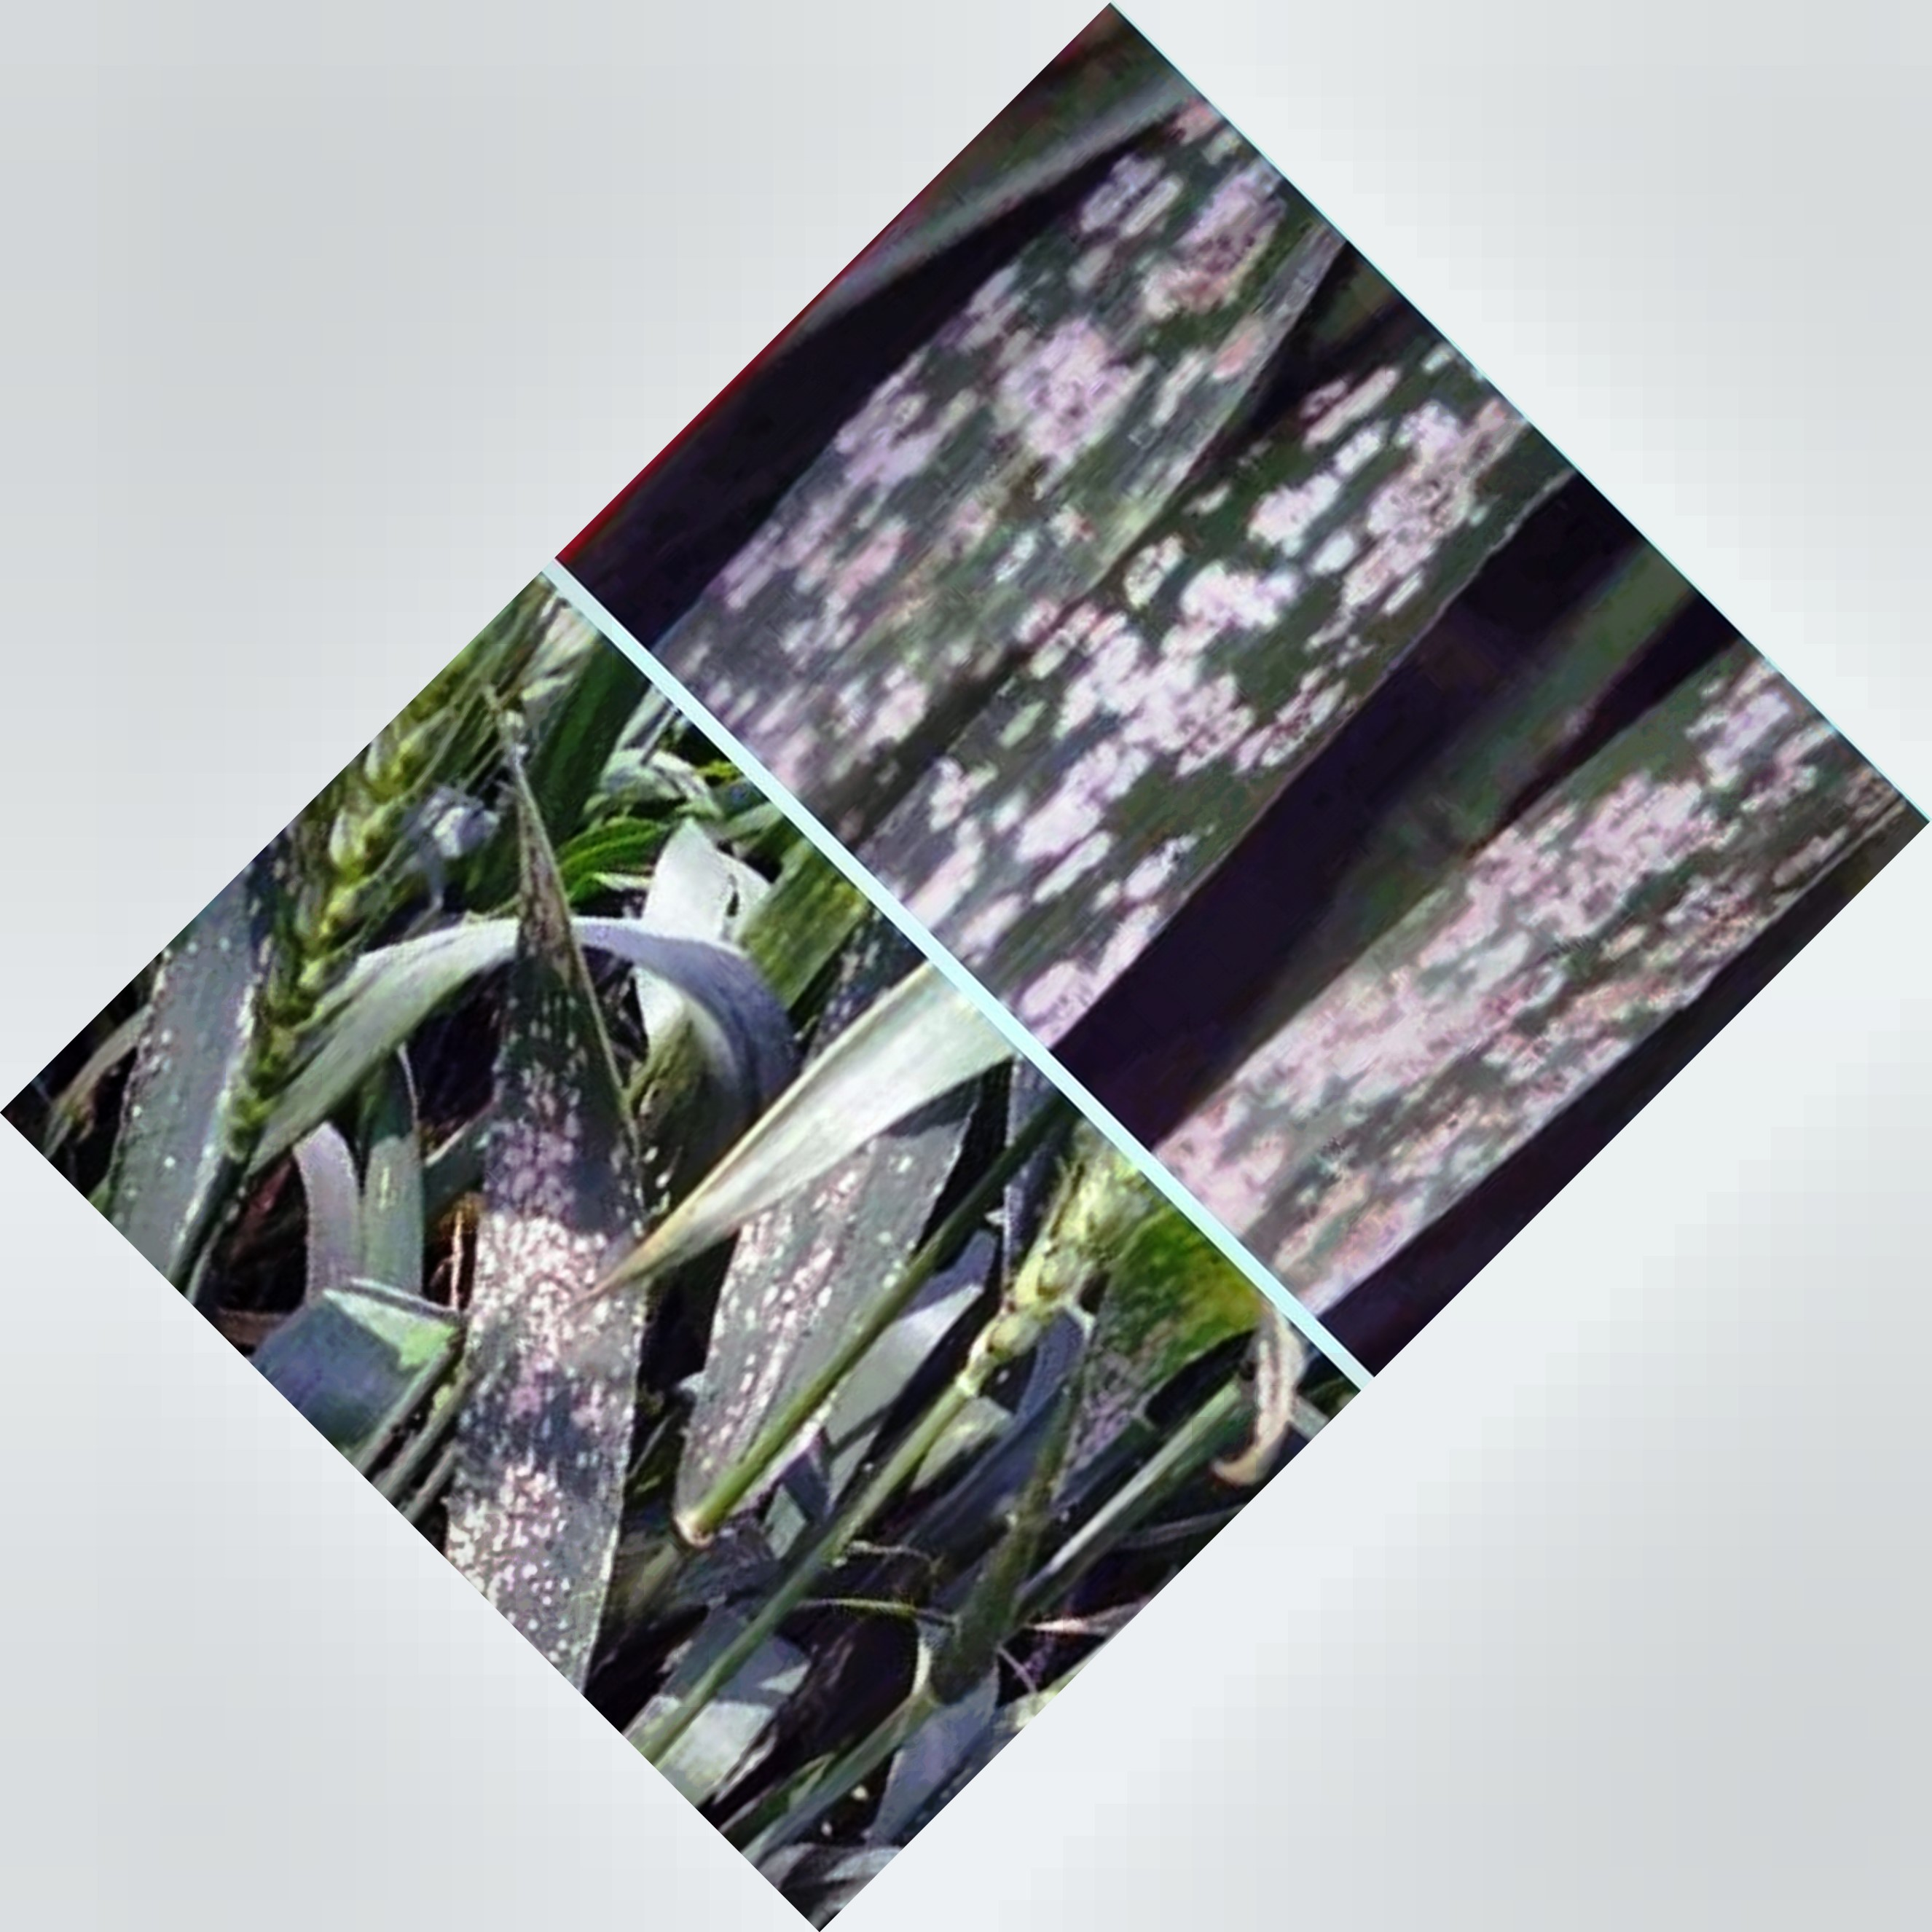Powdery Mildew: (920, 356, 1545, 955), (453, 982, 651, 1637)
